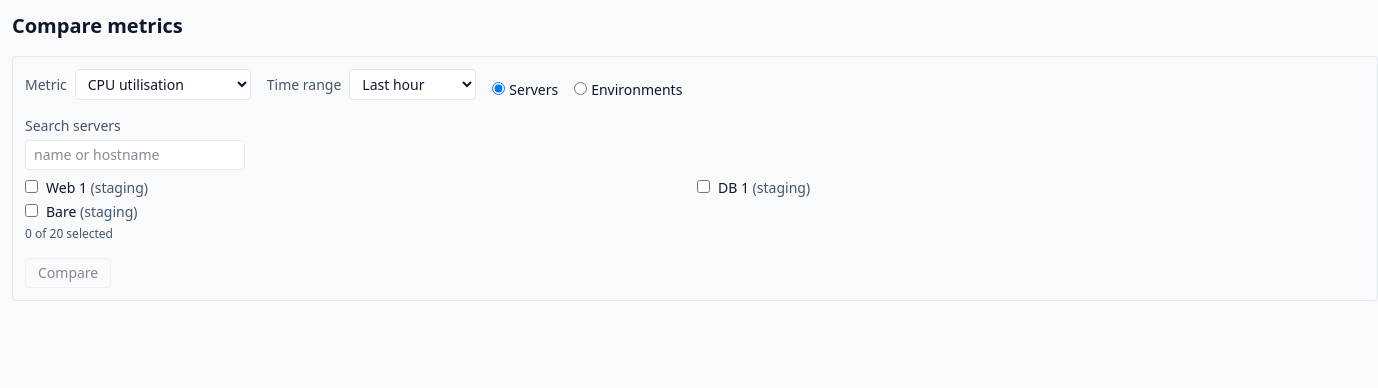
Test case: Compare › shows a refusal rather than an empty chart
Click the checkbox labelled "Web 1 (staging)" at (32, 186), box [25, 180, 38, 193]
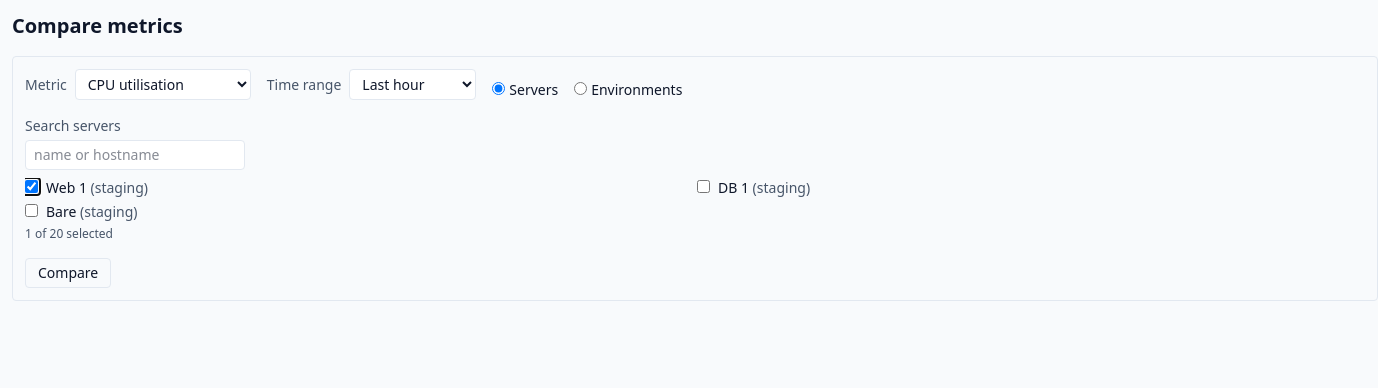
Click the button "Compare" at (68, 273), box [25, 258, 111, 288]
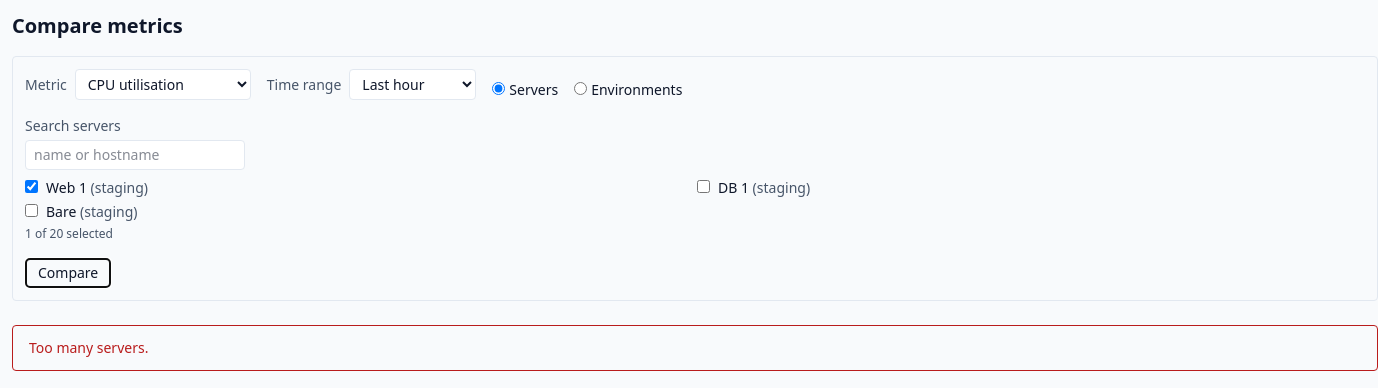
Expected: the message reads "Too many servers.", [29, 338, 148, 357]
